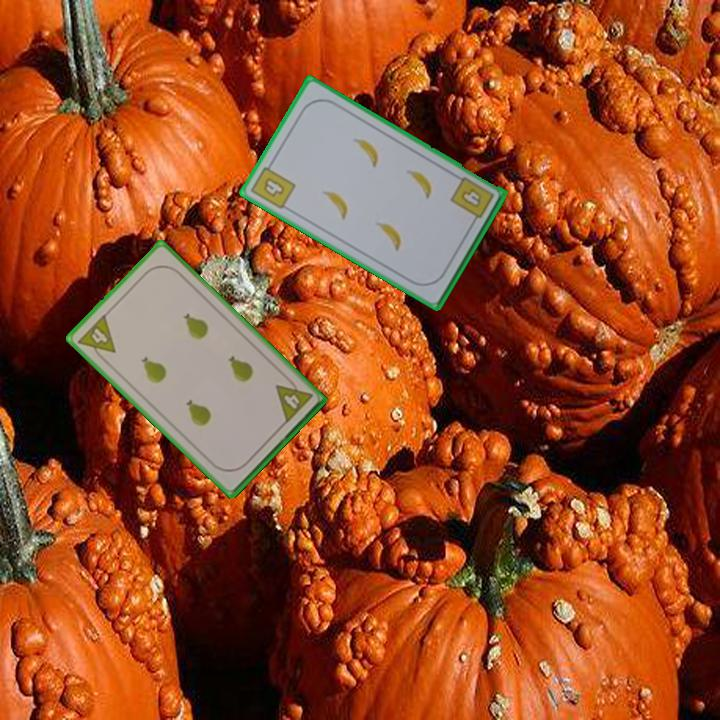4b: (247, 158, 298, 212), (447, 173, 497, 227)
4p: (74, 310, 119, 365), (272, 373, 315, 426)
